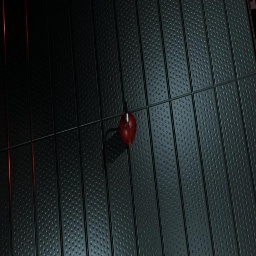FireExtinguisher ]: (119, 101, 136, 147)
